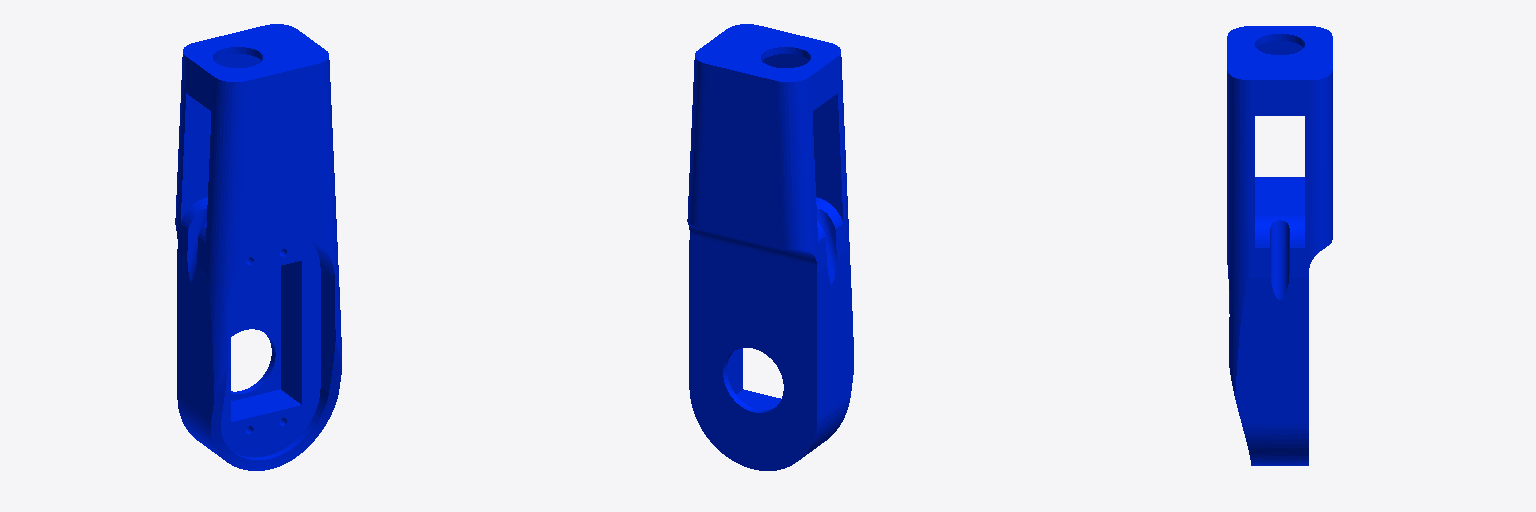
File: arm_02_v3_obj.obj
3 views of the same model, side by side, from view 1: azimuth 30°, elevation 25°; view 2: azimuth 150°, elevation 25°; view 3: azimuth 270°, elevation 25° (orthographic).
Parts seen in each view (by area): view 1: fabconvert.com_arm_02_v3; view 2: fabconvert.com_arm_02_v3; view 3: fabconvert.com_arm_02_v3.
Boxes of the visible parts, box(x1,y1,x2,y2) form: fabconvert.com_arm_02_v3: box(175, 24, 341, 470); fabconvert.com_arm_02_v3: box(687, 24, 853, 470); fabconvert.com_arm_02_v3: box(1227, 26, 1332, 465).
Bounding box in the file's own units: 0.2901 × 0.8779 × 0.2061.